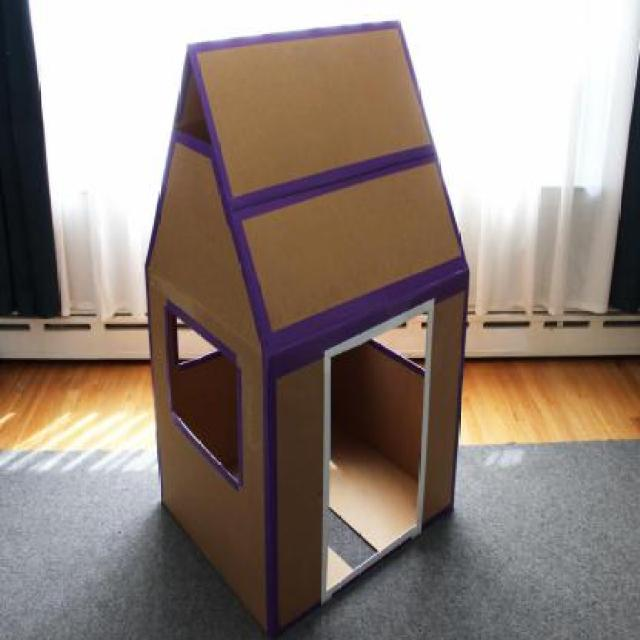box: (133, 14, 486, 640)
